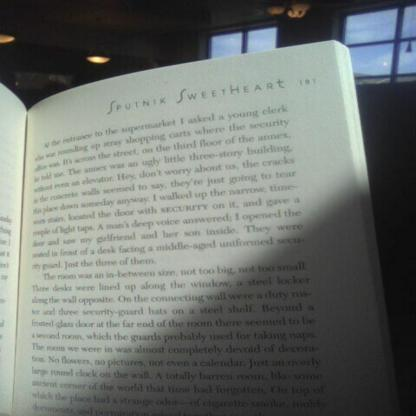book: (0, 62, 398, 416)
